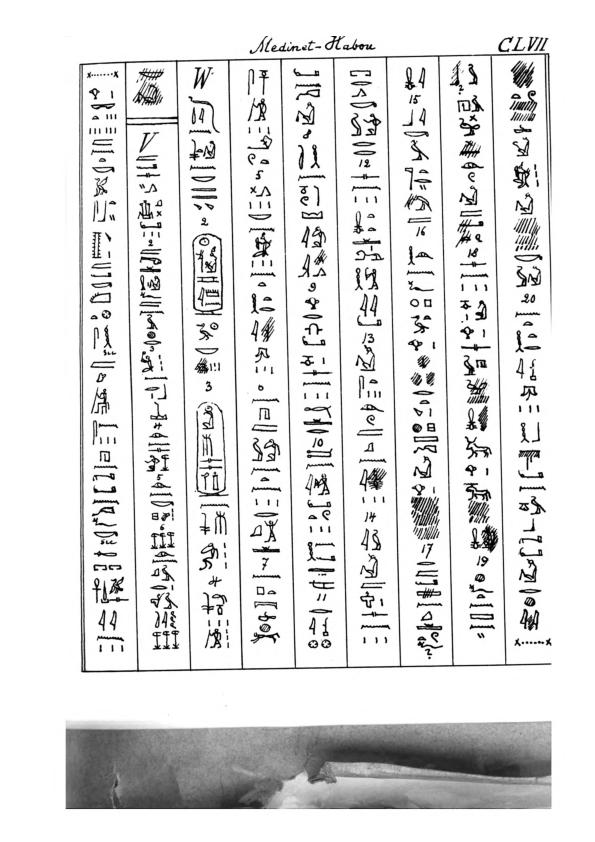circle: (193, 397, 231, 499), (189, 229, 226, 320)
